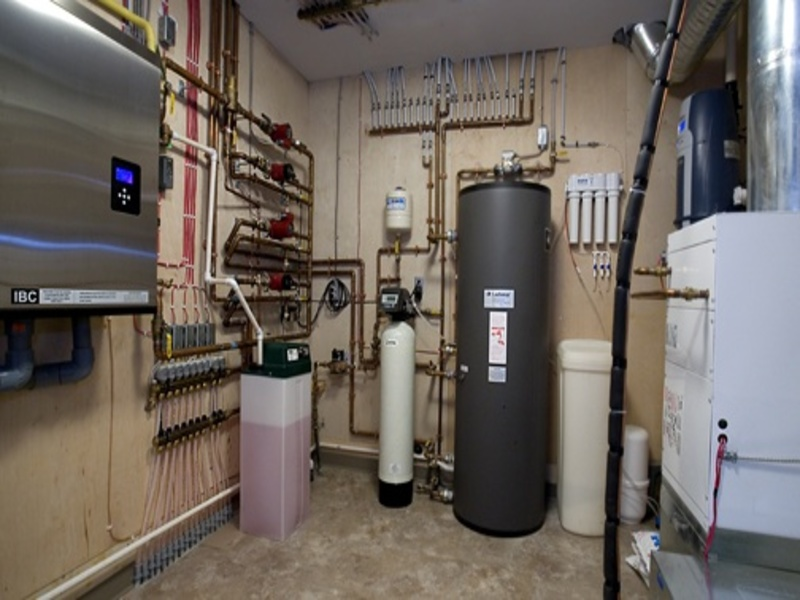valve: (156, 73, 183, 131), (152, 314, 178, 364), (221, 121, 239, 152), (390, 236, 406, 266), (545, 144, 568, 161)
